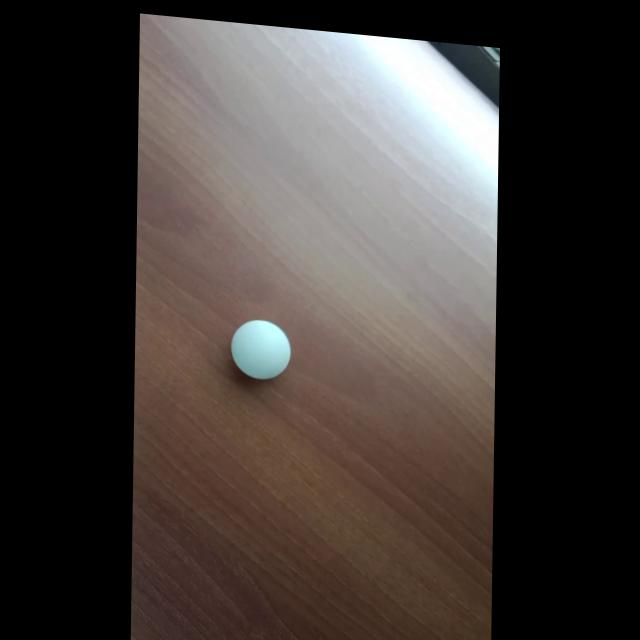white ball: (230, 316, 291, 383)
